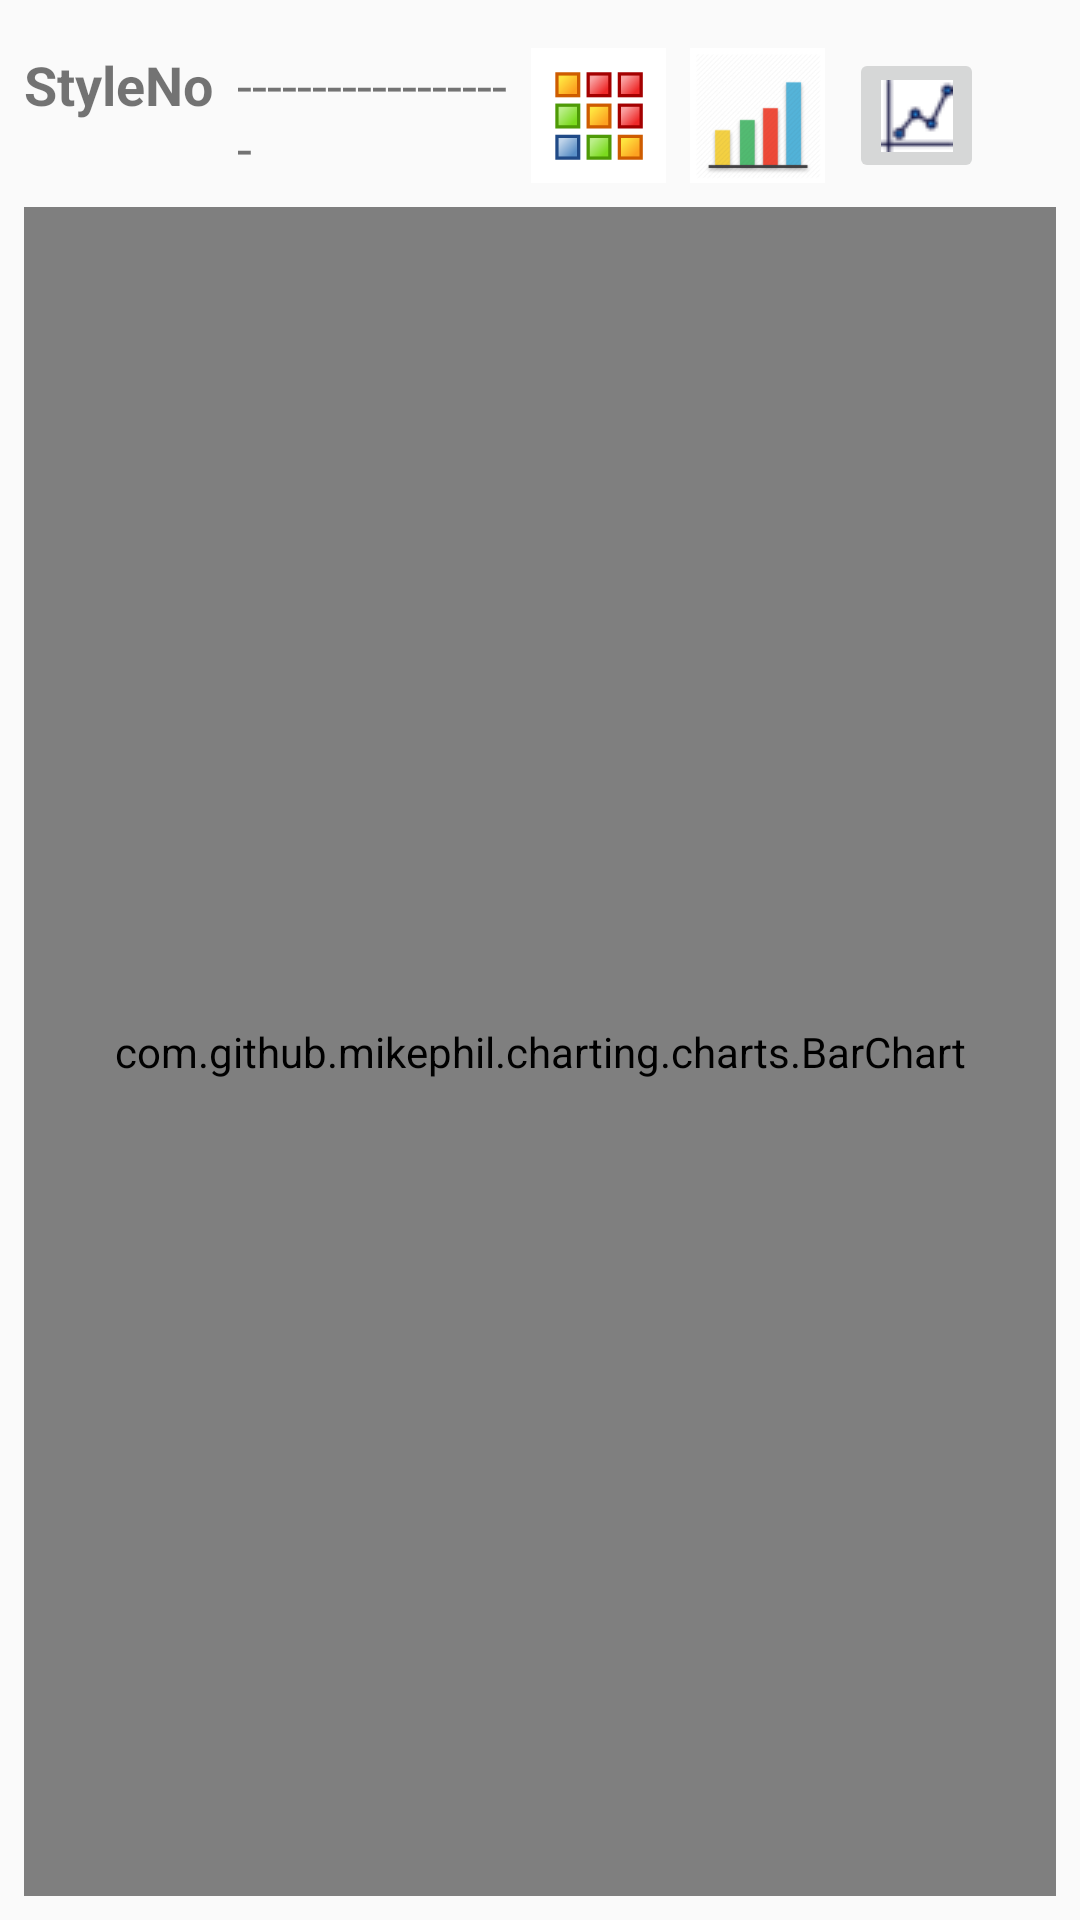

Screen size 1080px×1920px. Icon name, then its box in pixels as (x1, y1, x2, y2):
grid: (555, 72, 643, 160)
icbarchart: (708, 82, 808, 171)
linecharts: (861, 66, 972, 165)
